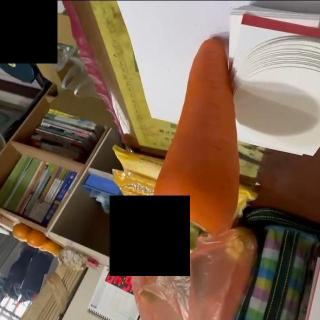carrot: (152, 37, 242, 257)
